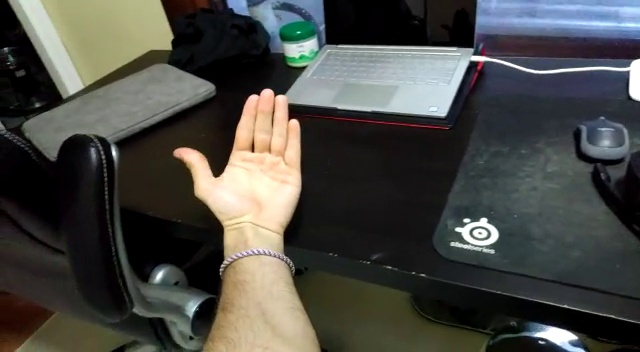Palm: (172, 87, 304, 232)
